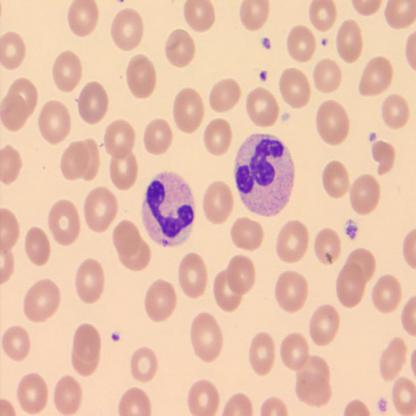Segmented neutrophil: (234, 130, 296, 218), (139, 169, 196, 248)
